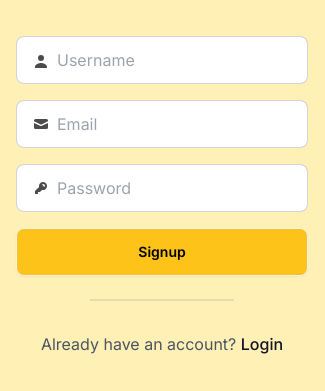
Signup Component › shows error message if login fails
The image size is (325, 391).
Step 1. Type "Test Name" into the field with placeholder "Username" → (174, 60), box [57, 48, 291, 72]
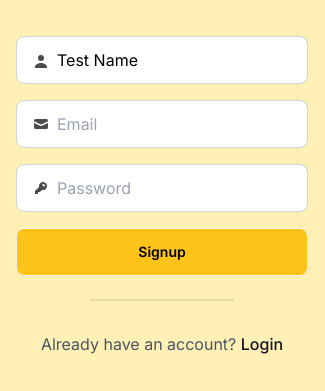
Step 2. Type "test@gmail.com" into the field with placeholder "Email" → (174, 124), box [57, 112, 291, 136]
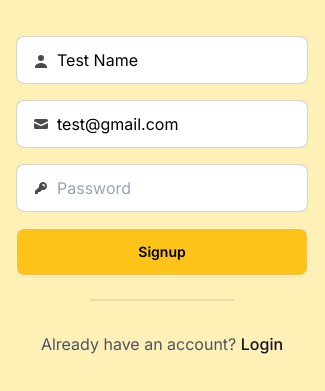
Step 3. Type "testpass" into the password field with placeholder "Password" → (174, 188), box [57, 176, 291, 200]
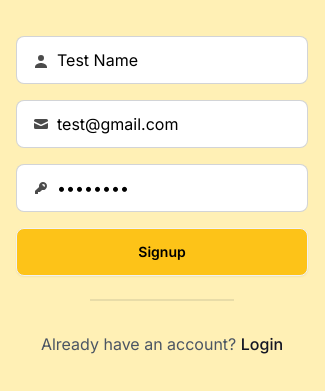
Step 4. Click the button "Signup" → (162, 252), box [16, 228, 308, 276]
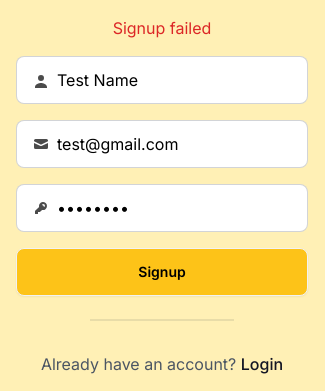
Expected: the text "Signup failed" is shown, [113, 16, 211, 40]
